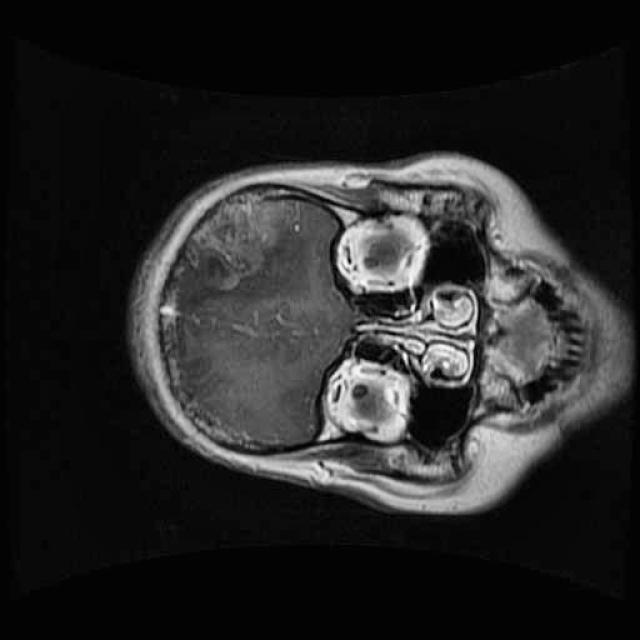Non-Tumor: (178, 182, 300, 296)
